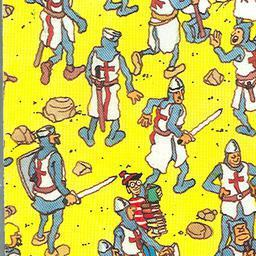waldo: (116, 165, 171, 241)
